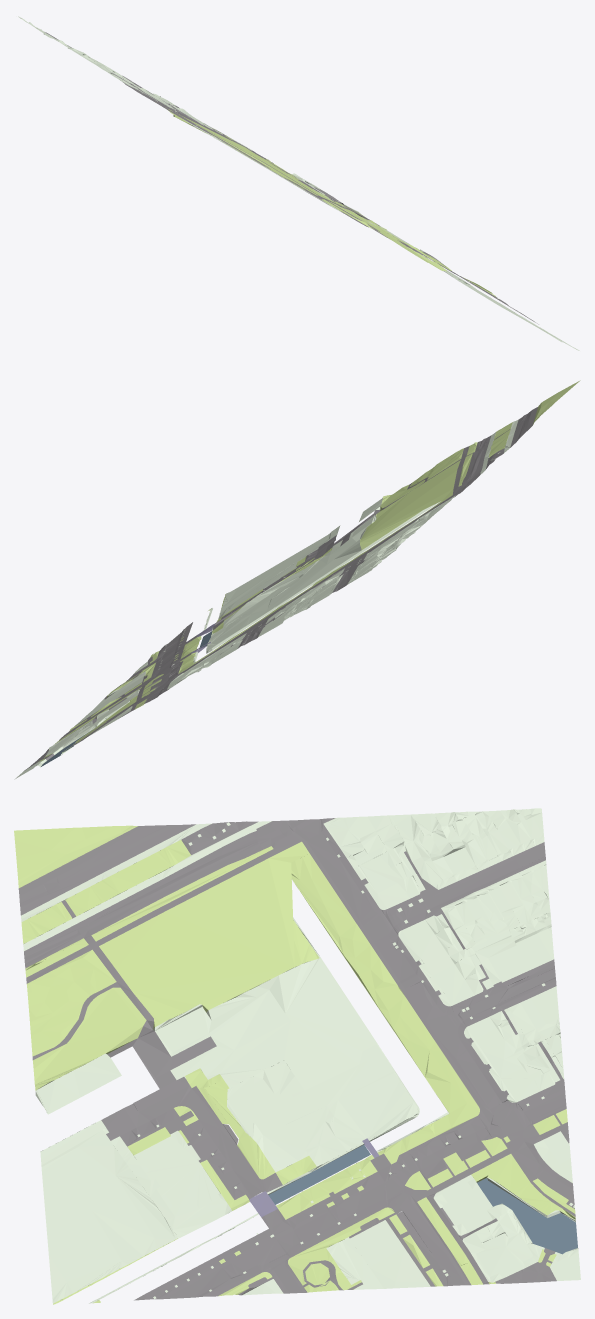
3 renders of one model, top to bottom at view 1: azimuth 30°, elevation 25°; view 2: azimuth 150°, elevation 25°; view 3: azimuth 270°, elevation 25°, orthographic. The views are drawn at different scales.
Size of the model in its own units: 217 by 158 by 267.
